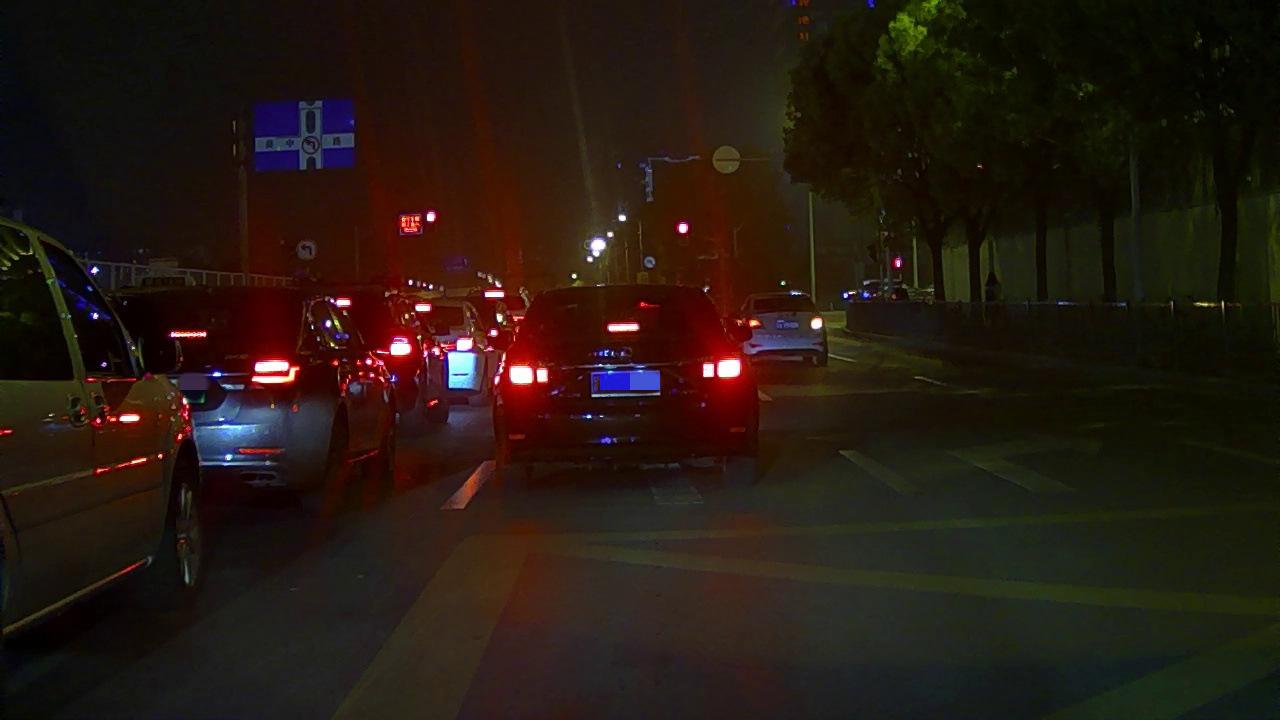traffic_light: (680, 222, 689, 233), (426, 211, 436, 220)
